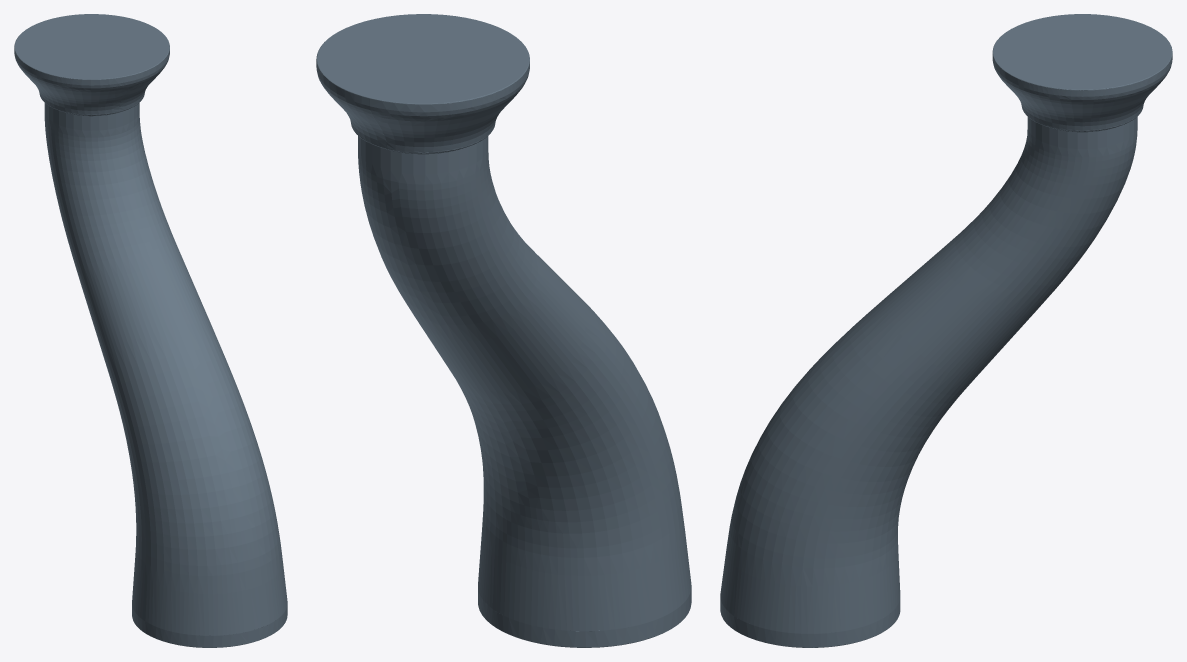
The picture shows the model from 3 angles, left to right: view 1: azimuth 30°, elevation 25°; view 2: azimuth 150°, elevation 25°; view 3: azimuth 270°, elevation 25°; orthographic projection. The views are drawn at different scales.
Visible parts, largest first — view 1: H2515_4_0; view 2: H2515_4_0; view 3: H2515_4_0.
Boxes of the visible parts, bbox=[...] form: H2515_4_0: bbox=[14, 14, 287, 647]; H2515_4_0: bbox=[316, 14, 691, 647]; H2515_4_0: bbox=[720, 14, 1172, 647].
Size of the model in its own units: 131 by 329 by 448.
